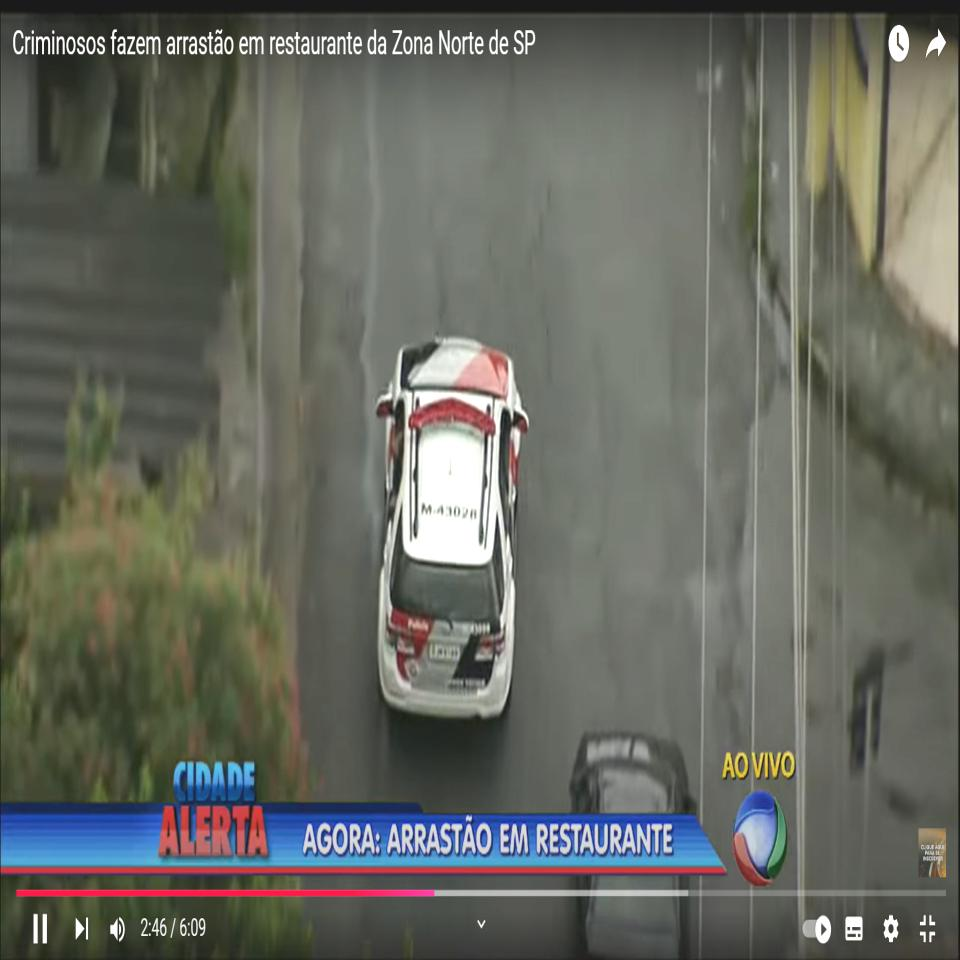viatura: (372, 326, 530, 732)
